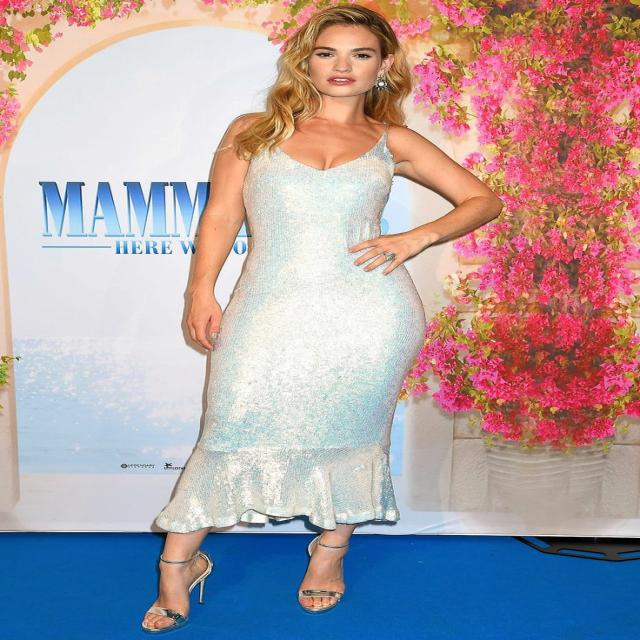female-dress: (198, 132, 424, 530)
